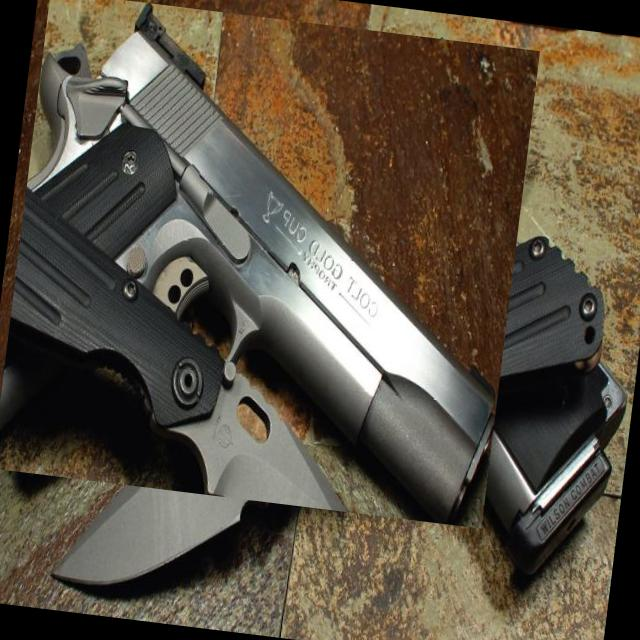Gun: (27, 3, 494, 523), (443, 333, 625, 569)
Knife: (55, 240, 603, 584)
